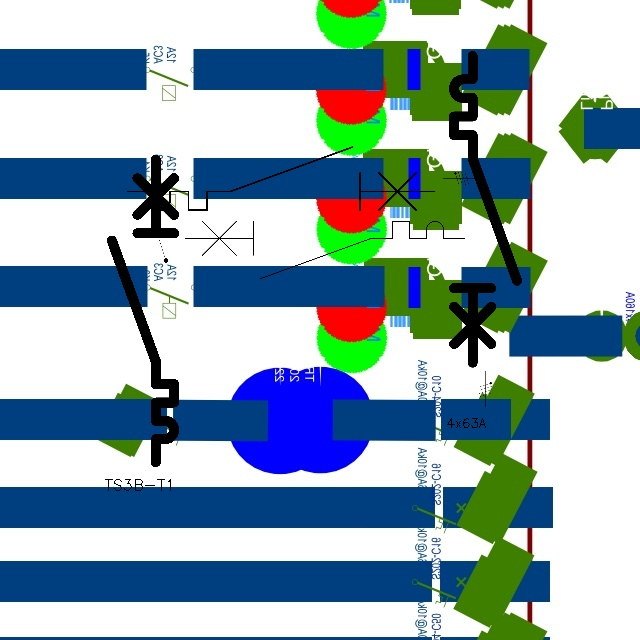interruptor_termomagnetico: (446, 48, 525, 370), (120, 139, 442, 218), (104, 152, 182, 470), (178, 214, 472, 286)
